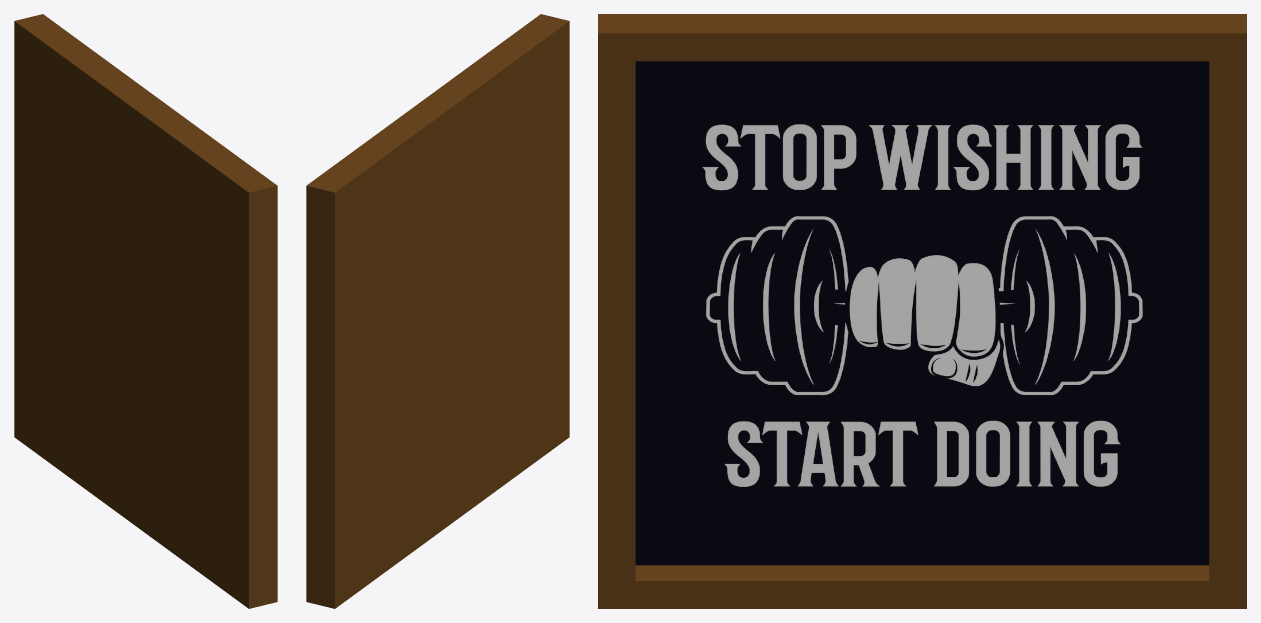
3 renders of one model, left to right at view 1: azimuth 30°, elevation 25°; view 2: azimuth 150°, elevation 25°; view 3: azimuth 270°, elevation 25°, orthographic. The views are drawn at different scales.
Parts seen in each view (by area): view 1: 4; view 2: 4; view 3: 4.
Part boxes in pixels (left/top/right/bottom): 4: left=14, top=14, right=277, bottom=608; 4: left=306, top=14, right=569, bottom=608; 4: left=598, top=14, right=1246, bottom=608.
Bounding box in the file's own units: 7.99 × 111 × 113.
Materials: 2 (1 with a texture image).
